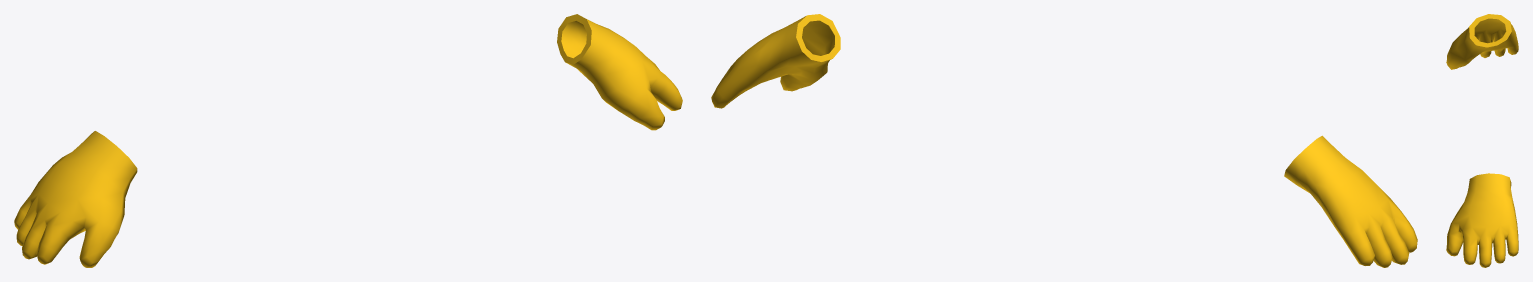
Rendered from Gloves_01.glb.
3 renders of one model, left to right at view 1: azimuth 30°, elevation 25°; view 2: azimuth 150°, elevation 25°; view 3: azimuth 270°, elevation 25°, orthographic. The views are drawn at different scales.
Visible parts, largest first — view 1: Gloves_01; view 2: Gloves_01; view 3: Gloves_01.
Boxes of the visible parts, x1,y1,x2,y2 form: Gloves_01: (14,14,682,267); Gloves_01: (711,14,1417,267); Gloves_01: (1446,14,1518,267).
Size of the model in its own units: 0.8285 by 0.1244 by 0.1179.
1 material, 1 textured.
